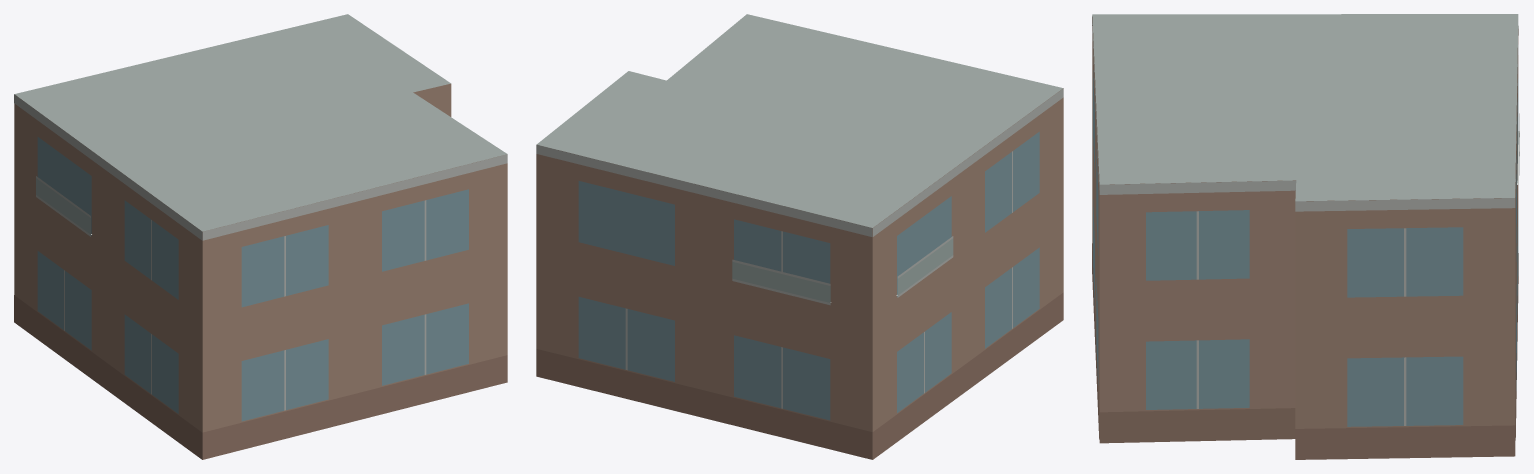
Rendered from survey-upis-32819020.glb.
The picture shows the model from 3 angles, left to right: view 1: azimuth 30°, elevation 25°; view 2: azimuth 150°, elevation 25°; view 3: azimuth 270°, elevation 25°; orthographic projection. The views are drawn at different scales.
Parts seen in each view (by area): view 1: survey-upis-32819020.tmp; view 2: survey-upis-32819020.tmp; view 3: survey-upis-32819020.tmp.
Boxes of the visible parts, left/top/right/bottom form: survey-upis-32819020.tmp: left=14, top=14, right=507, bottom=459; survey-upis-32819020.tmp: left=536, top=14, right=1063, bottom=459; survey-upis-32819020.tmp: left=1092, top=14, right=1519, bottom=459.
Size of the model in its own units: 9.52 by 6.1 by 9.15.
